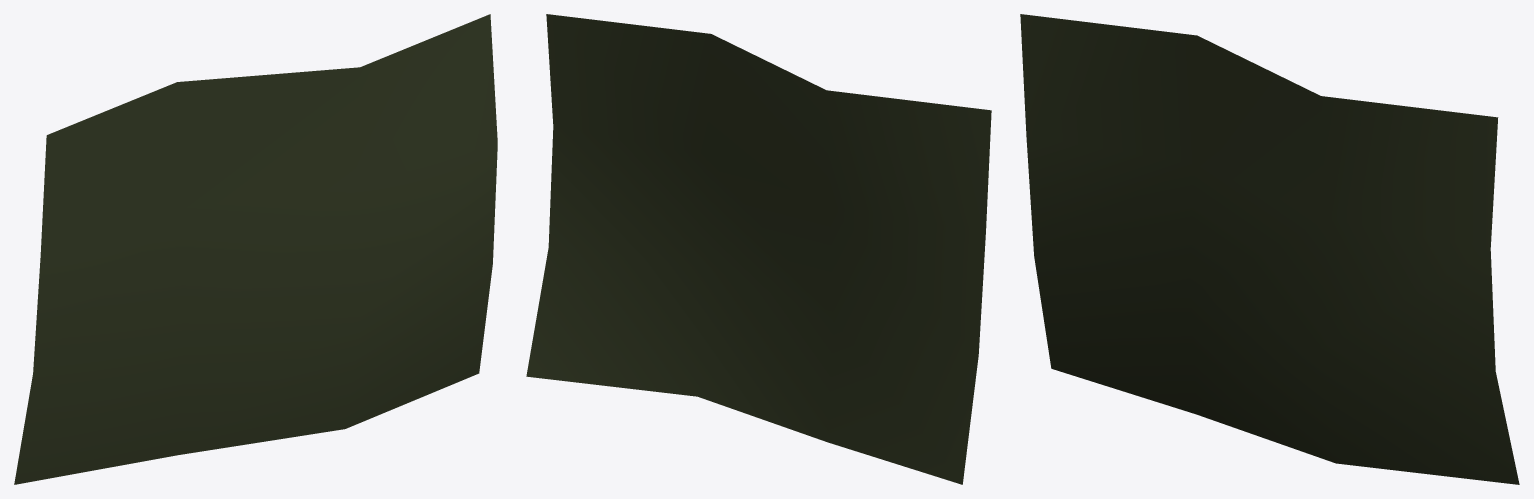
File: HangingMoss01.fbx
The picture shows the model from 3 angles, left to right: view 1: azimuth 30°, elevation 25°; view 2: azimuth 150°, elevation 25°; view 3: azimuth 330°, elevation 25°; orthographic projection. The views are drawn at different scales.
Visible parts, largest first — view 1: pPlane1; view 2: pPlane1; view 3: pPlane1.
Part boxes in pixels (x1,y1,x2,y2): pPlane1: (14, 14, 497, 484); pPlane1: (526, 14, 991, 484); pPlane1: (1020, 14, 1519, 484).
Size of the model in its own units: 21.4 by 16.46 by 3.31.
